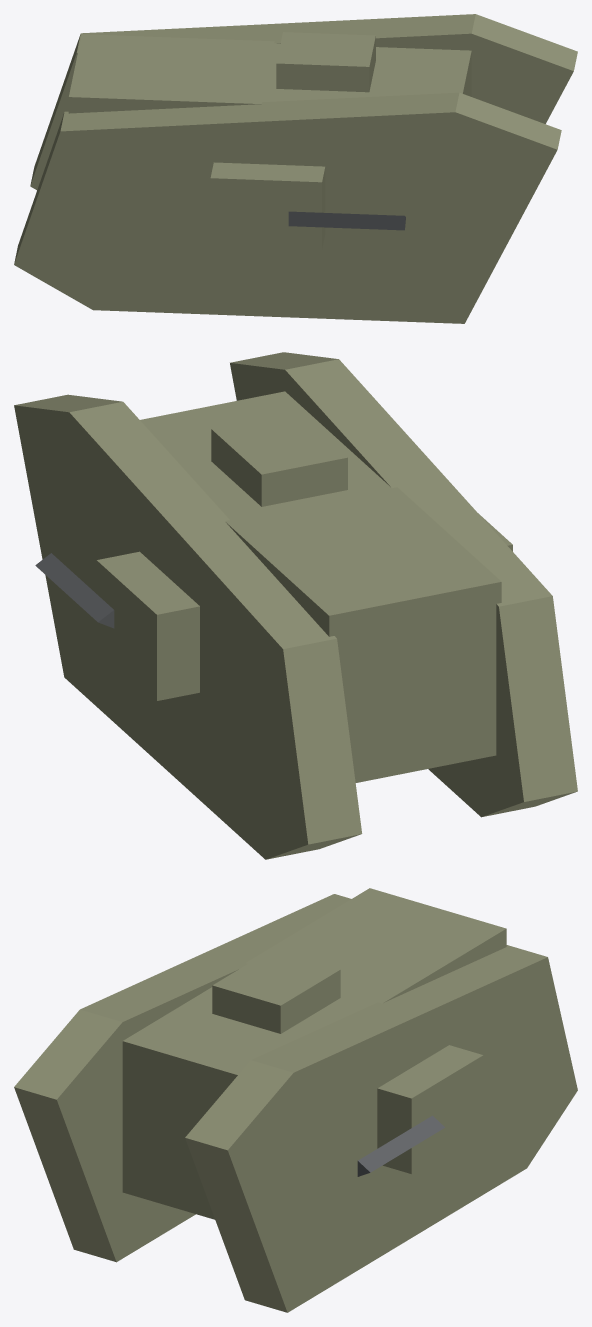
Rendered from wwi-tank.glb.
The picture shows the model from 3 angles, top to bottom: view 1: azimuth 30°, elevation 25°; view 2: azimuth 150°, elevation 25°; view 3: azimuth 270°, elevation 25°; orthographic projection. The views are drawn at different scales.
Parts seen in each view (by area): view 1: LOD0; view 2: LOD0; view 3: LOD0.
Boxes of the visible parts, left/top/right/bottom form: LOD0: left=14, top=14, right=577, bottom=323; LOD0: left=14, top=352, right=577, bottom=859; LOD0: left=14, top=888, right=577, bottom=1312.
Size of what is drawn, in the model's own units: 1.25 by 0.52 by 1.08.
